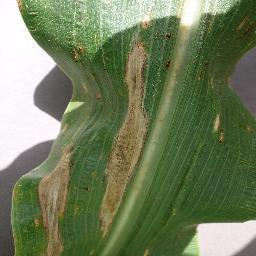Corn_Blight: (87, 6, 163, 234), (24, 134, 74, 256), (226, 8, 256, 44), (7, 1, 38, 29), (66, 29, 83, 71), (201, 57, 218, 98), (166, 23, 178, 75), (208, 113, 228, 144), (135, 244, 152, 256)
